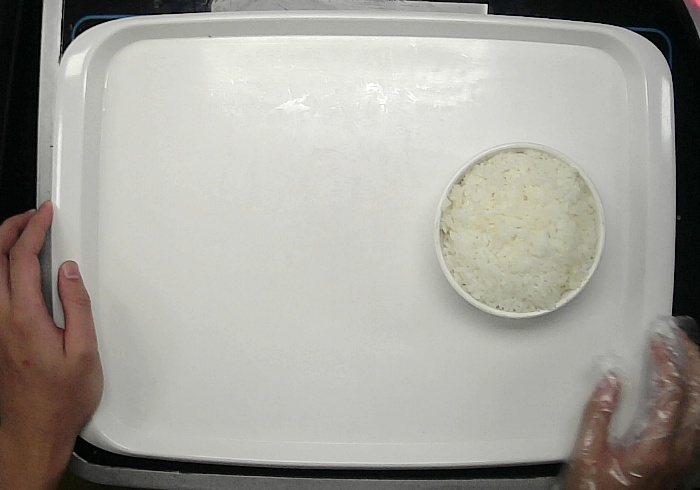HZYJPL-Fan_Wan: (432, 143, 606, 319)
